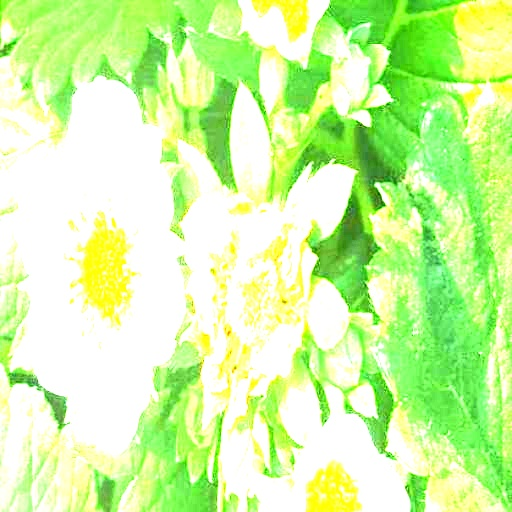Blossom Blight: (60, 183, 147, 356), (205, 227, 304, 378)
